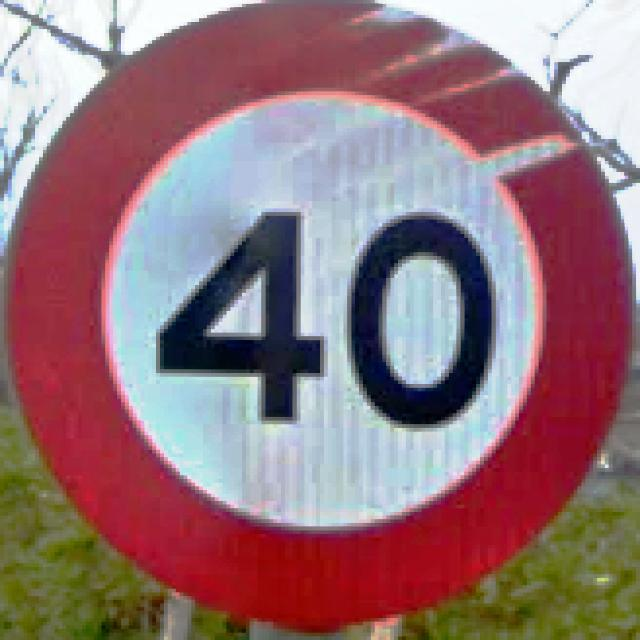max40: (0, 0, 632, 625)
